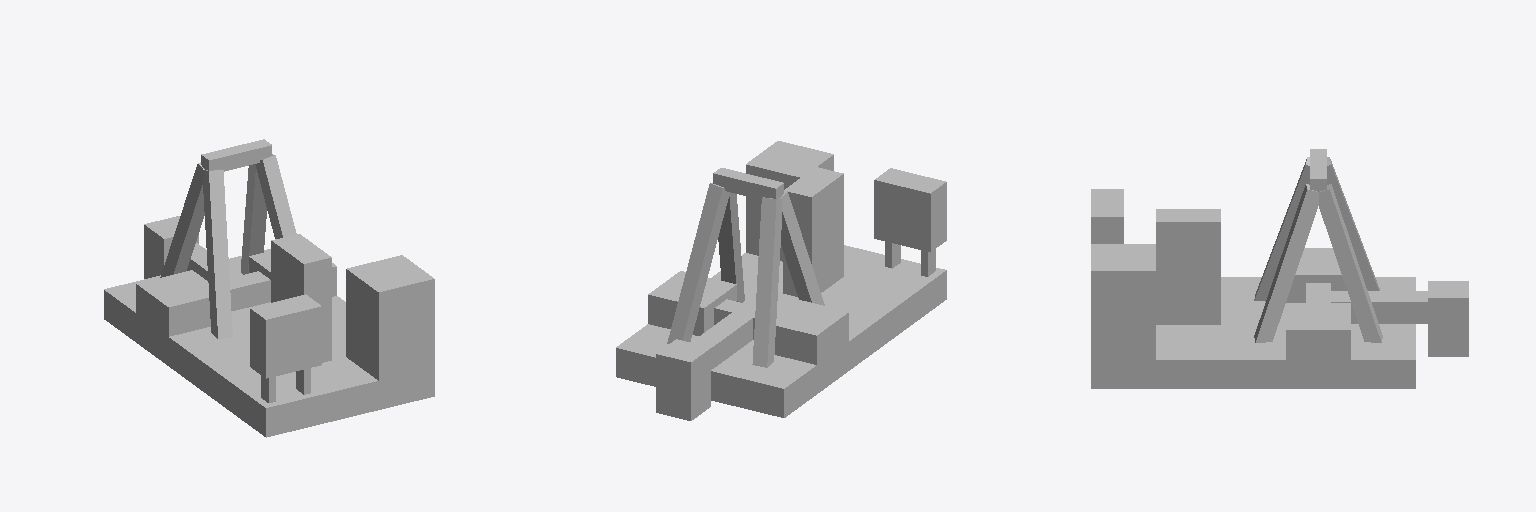
Rendered from pumpjack.obj.
3 renders of one model, left to right at view 1: azimuth 30°, elevation 25°; view 2: azimuth 150°, elevation 25°; view 3: azimuth 270°, elevation 25°, orthographic.
Parts seen in each view (by area): view 1: pumpjack_normal; view 2: pumpjack_normal; view 3: pumpjack_normal.
Boxes of the visible parts, x1=… form: pumpjack_normal: x1=104, y1=139, x2=434, y2=437; pumpjack_normal: x1=616, y1=141, x2=946, y2=420; pumpjack_normal: x1=1091, y1=149, x2=1468, y2=388.
Size of the model in its own units: 3 by 3.12 by 5.81.